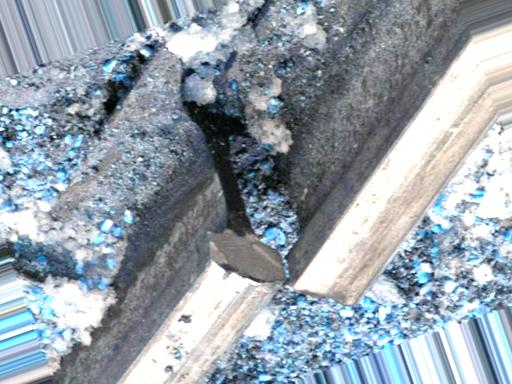tracks_fault: (199, 204, 383, 330)
